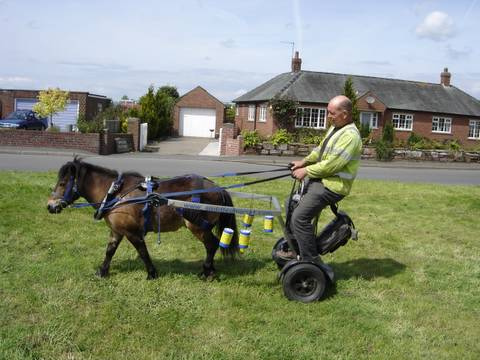horse: (47, 156, 237, 281)
